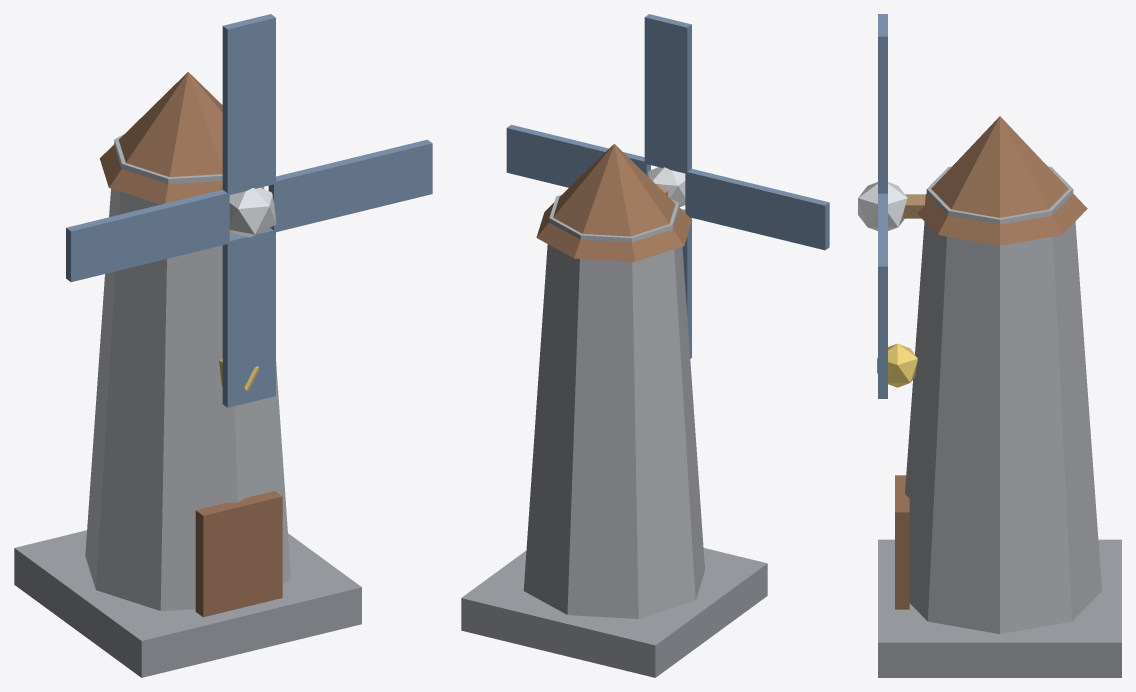
File: farm_windmill.glb
3 views of the same model, side by side, from view 1: azimuth 30°, elevation 25°; view 2: azimuth 150°, elevation 25°; view 3: azimuth 270°, elevation 25° (orthographic). The views are drawn at different scales.
Parts seen in each view (by area): view 1: tower, base.003, roof, door.002, blade_0, blade_3, blade_1, blade_2, hub; view 2: tower, base.003, roof, blade_0, blade_3, blade_1, hub, blade_2; view 3: tower, base.003, roof, door.002, blade_0, hub, blade_1, window, blade_2, axle.001.
Part boxes in pixels (x1,y1,x2,y2): tower: [85, 134, 290, 610]; base.003: [14, 530, 361, 677]; roof: [99, 72, 222, 204]; door.002: [195, 491, 282, 617]; blade_0: [222, 14, 275, 195]; blade_3: [66, 189, 229, 282]; blade_1: [268, 139, 432, 232]; blade_2: [222, 228, 275, 407]; hub: [229, 187, 276, 237]; tower: [523, 194, 704, 618]; base.003: [461, 548, 767, 677]; roof: [536, 144, 692, 261]; blade_0: [644, 14, 691, 173]; blade_3: [685, 169, 829, 250]; blade_1: [506, 124, 650, 187]; hub: [647, 167, 685, 206]; blade_2: [681, 209, 691, 358]; tower: [905, 166, 1101, 634]; base.003: [878, 539, 1121, 677]; roof: [917, 116, 1087, 245]; door.002: [895, 475, 909, 609]; blade_0: [878, 14, 887, 193]; hub: [858, 182, 907, 230]; blade_1: [878, 193, 887, 315]; window: [877, 343, 917, 387]; blade_2: [878, 315, 887, 398]; axle.001: [902, 194, 925, 218].
Size of the model in its own units: 1.64 by 2.72 by 1.08.
